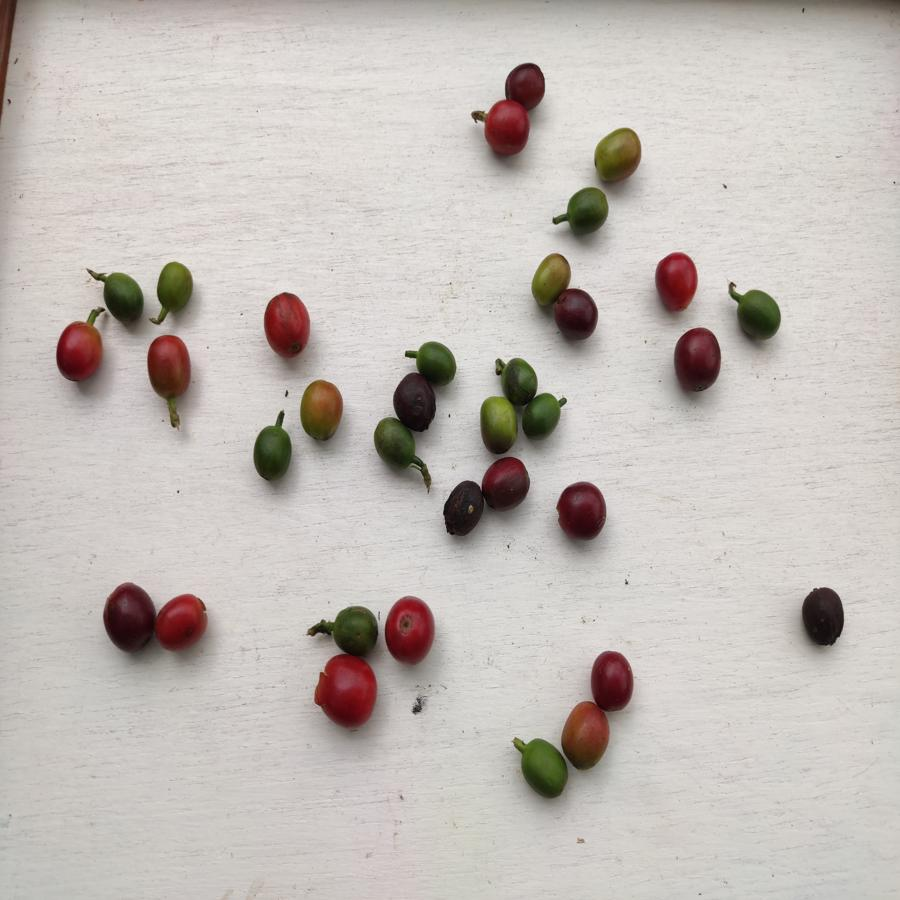Inmaduro: (521, 739, 566, 799), (331, 606, 380, 654), (738, 289, 782, 342), (478, 396, 521, 450), (566, 184, 611, 234), (253, 426, 294, 480), (521, 390, 564, 439), (103, 271, 145, 321), (156, 261, 194, 314), (496, 357, 539, 402), (373, 423, 415, 469), (412, 339, 457, 376)
Maduro: (316, 654, 378, 726), (146, 334, 195, 400), (385, 597, 434, 662), (157, 592, 208, 652), (264, 292, 310, 358), (588, 649, 635, 711), (482, 99, 531, 157), (57, 322, 104, 381), (653, 251, 698, 311)
Pinton: (561, 702, 610, 771), (592, 127, 643, 181), (300, 379, 342, 442), (531, 253, 569, 303)
Sobremaduro: (101, 581, 156, 651), (672, 326, 725, 396), (557, 481, 608, 540), (801, 585, 844, 647), (481, 457, 531, 510), (441, 477, 484, 537), (552, 289, 601, 341), (395, 374, 436, 430), (503, 61, 546, 105)
